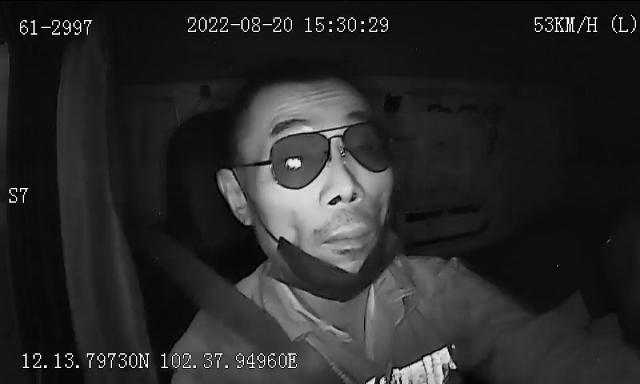SafeDriving: (275, 151, 313, 178)
Seatbelt: (158, 234, 362, 384)
